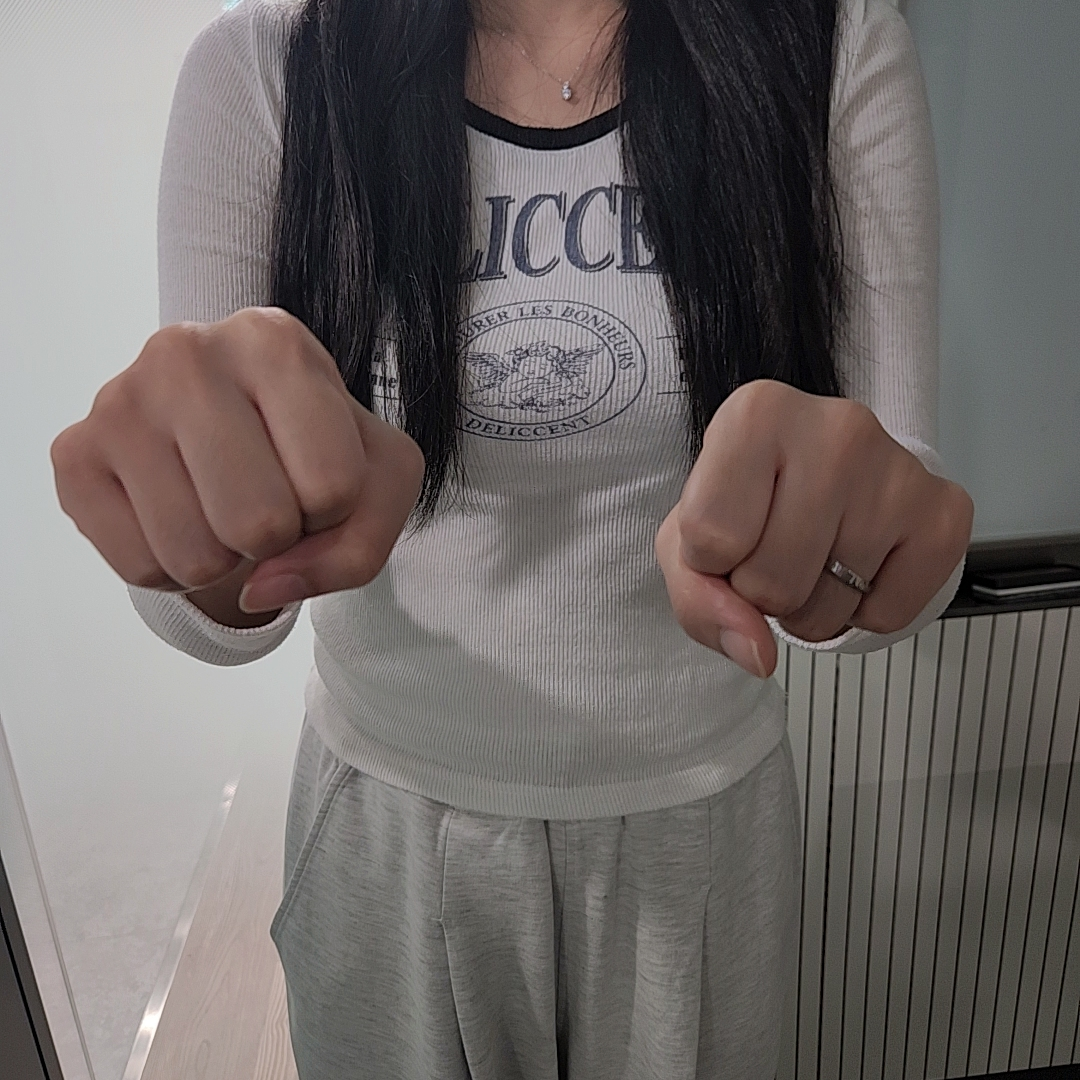hello: (53, 303, 975, 674)
